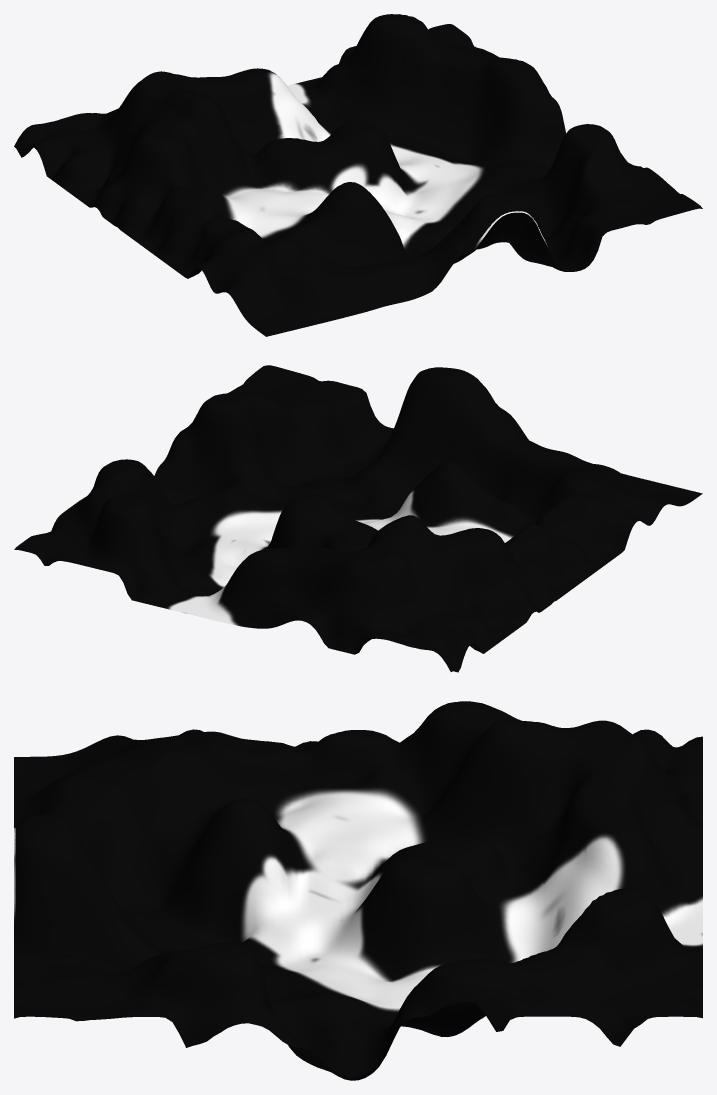
Rendered from terrain_sample.glb.
3 views of the same model, one above another, from view 1: azimuth 30°, elevation 25°; view 2: azimuth 150°, elevation 25°; view 3: azimuth 270°, elevation 25° (orthographic). The views are drawn at different scales.
Visible parts, largest first — view 1: Grid; view 2: Grid; view 3: Grid.
Boxes of the visible parts, x1,y1,x2,y2 form: Grid: (14,14,702,336); Grid: (14,365,702,672); Grid: (14,701,702,1080).
Bounding box in the file's own units: 200 × 49.34 × 200.
1 material, 1 textured.
